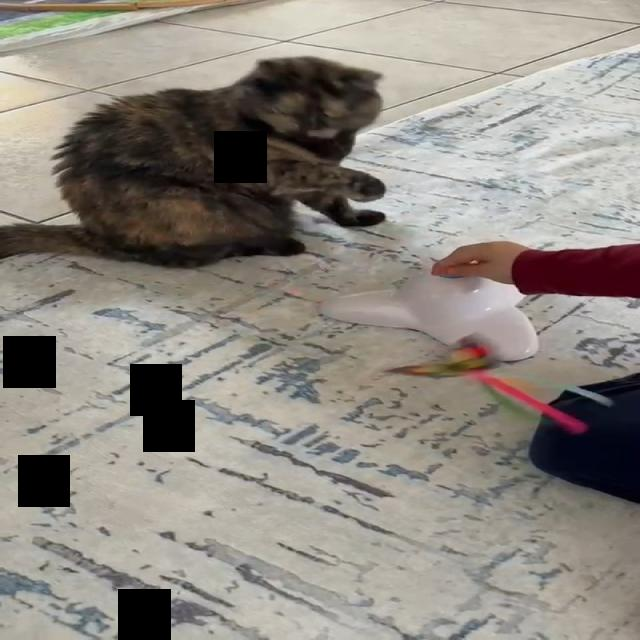authorized: (0, 54, 387, 269)
